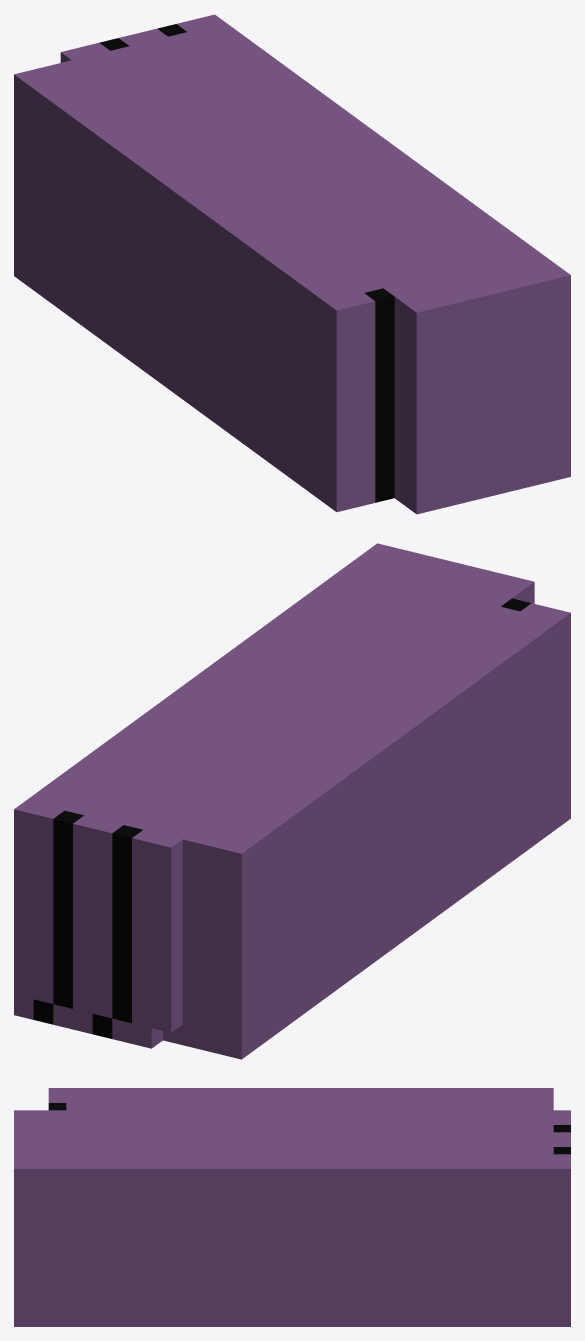
The picture shows the model from 3 angles, top to bottom: view 1: azimuth 30°, elevation 25°; view 2: azimuth 150°, elevation 25°; view 3: azimuth 270°, elevation 25°; orthographic projection. The views are drawn at different scales.
Bounding box in the file's own units: 0.55 × 0.5 × 1.6.
